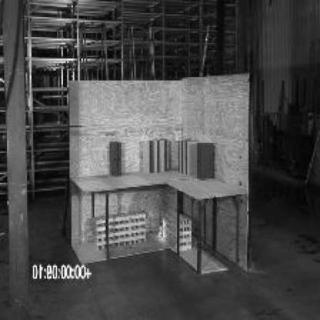Fire: (153, 217, 169, 245)
